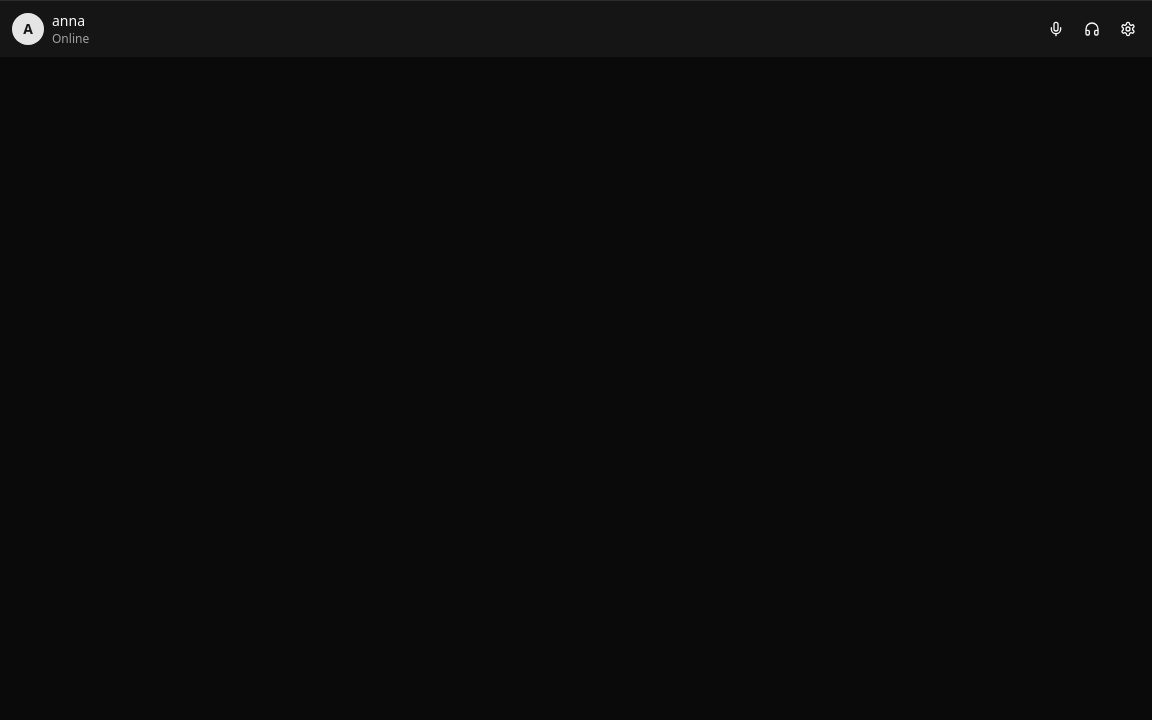
Scenario: UserPanel › opens the settings on Audio & Mic
Click the button named "Settings": (1128, 29) [1112,13,1144,45]
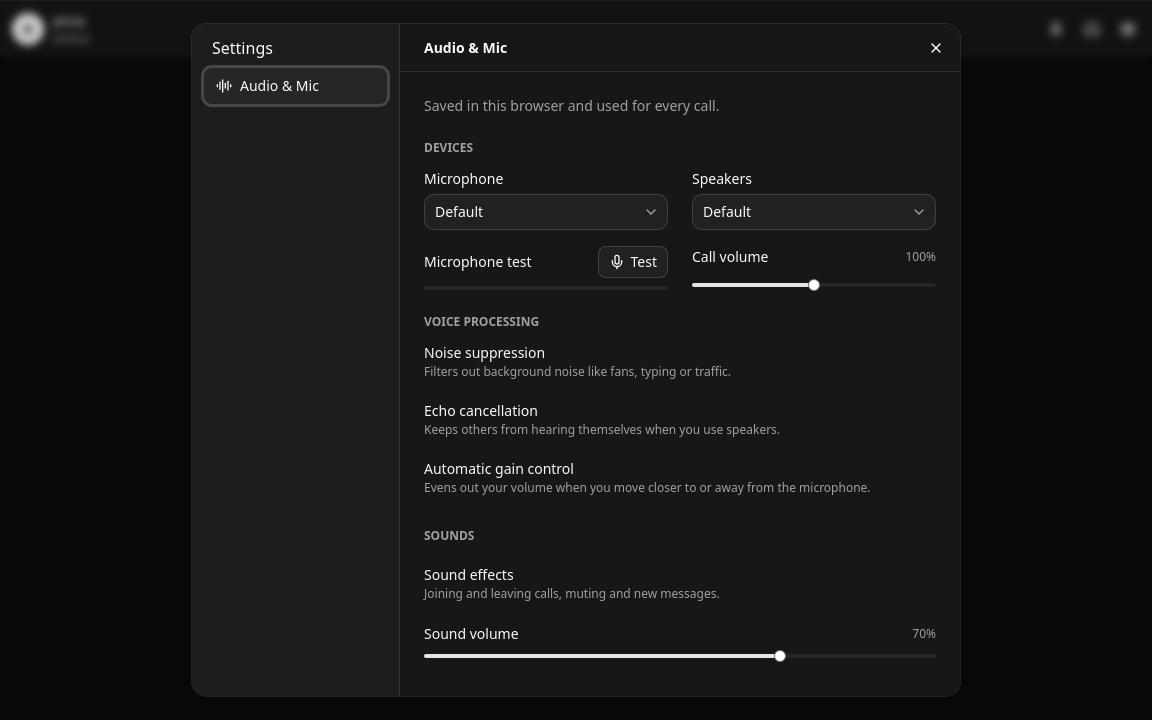
Check: the dialog "Settings" is shown
Check: the heading "Audio & Mic" is shown, box [424,38,507,58]
